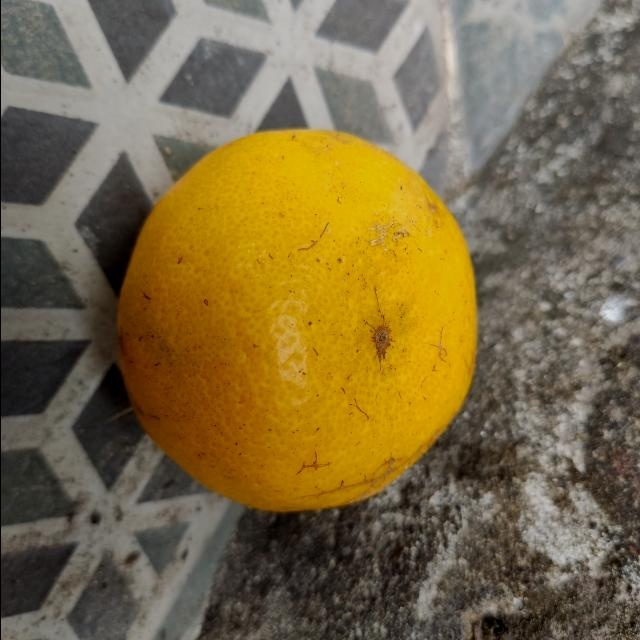agrume: (110, 126, 480, 514)
